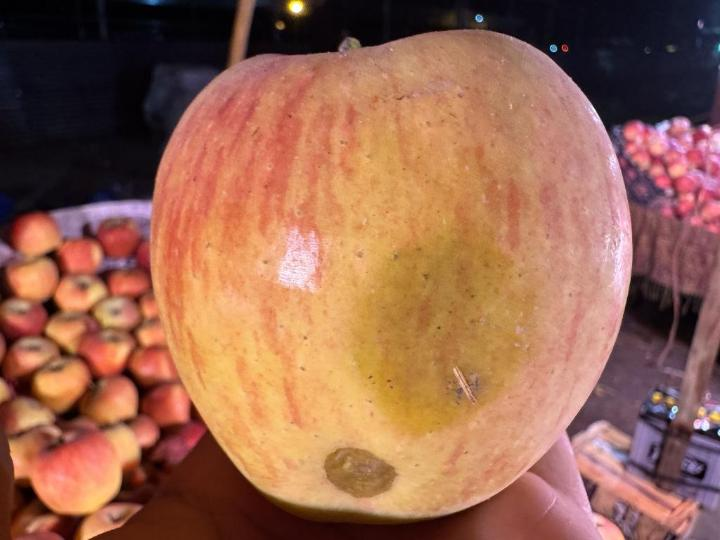apple: (151, 30, 632, 521)
bruise_discoloration: (349, 228, 539, 430)
rot_mold_decay: (324, 448, 397, 498)
